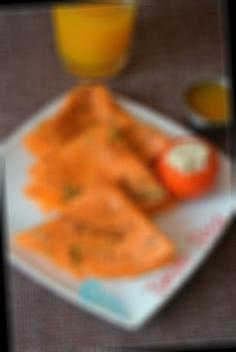dosa: (15, 186, 179, 281)
